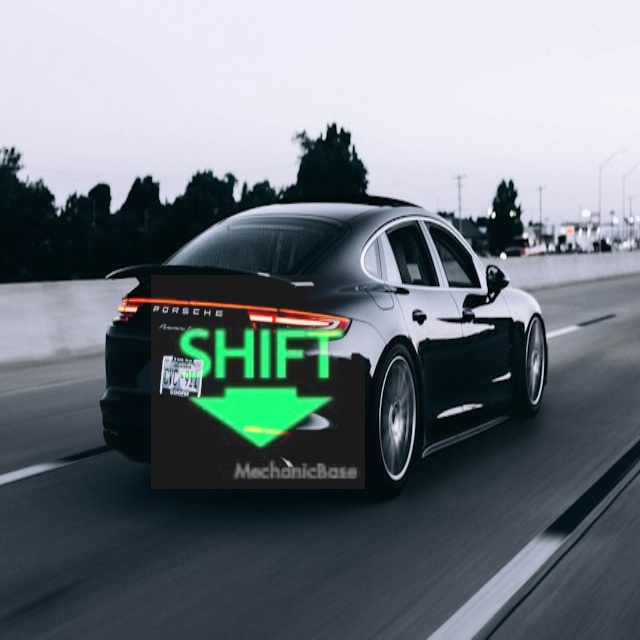symbol: (151, 275, 365, 489)
